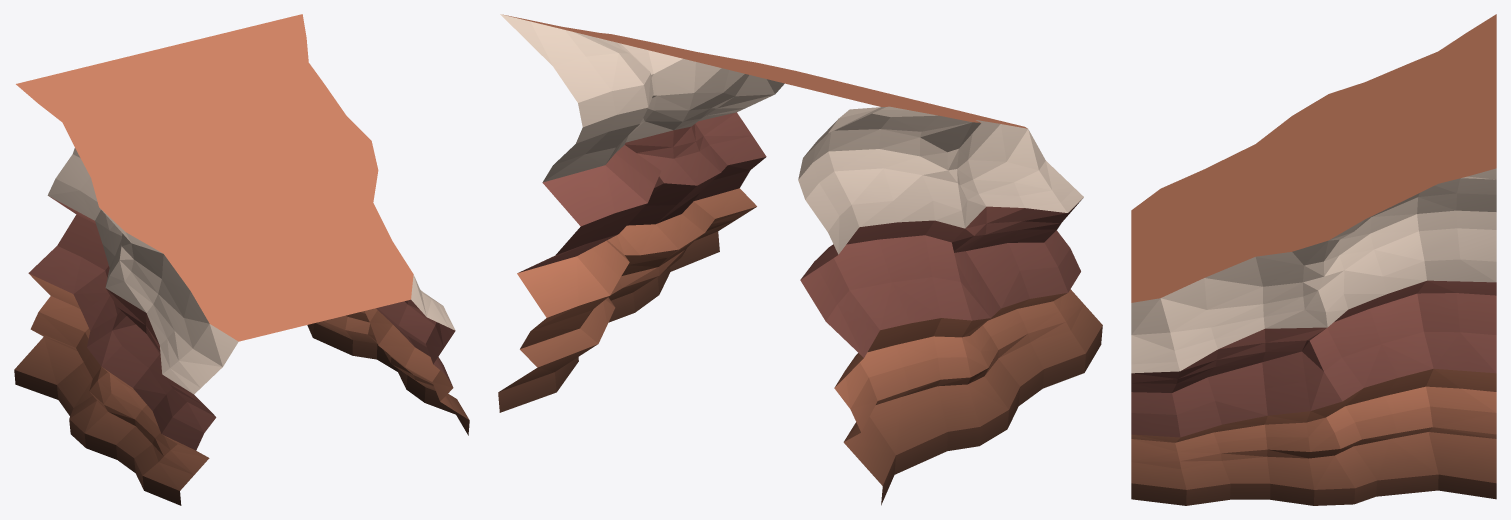
Rendered from upramp.fbx.
3 views of the same model, side by side, from view 1: azimuth 30°, elevation 25°; view 2: azimuth 150°, elevation 25°; view 3: azimuth 270°, elevation 25° (orthographic). The views are drawn at different scales.
Parts seen in each view (by area): view 1: upramp; view 2: upramp; view 3: upramp.
Part boxes in pixels (x1=…): upramp: x1=14, y1=14, x2=469, y2=505; upramp: x1=498, y1=14, x2=1102, y2=505; upramp: x1=1131, y1=14, x2=1496, y2=505.
Size of the model in its own units: 109 by 100 by 100.
